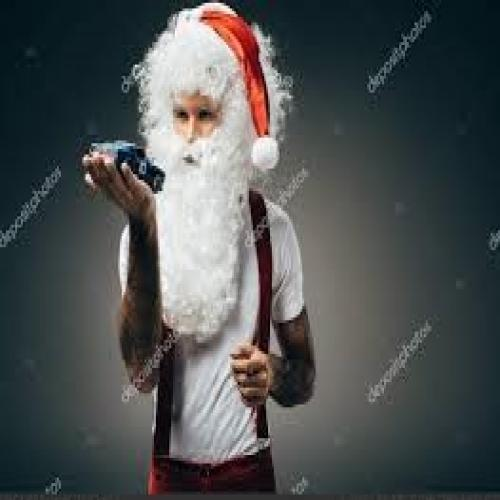Santa: (82, 3, 316, 497)
